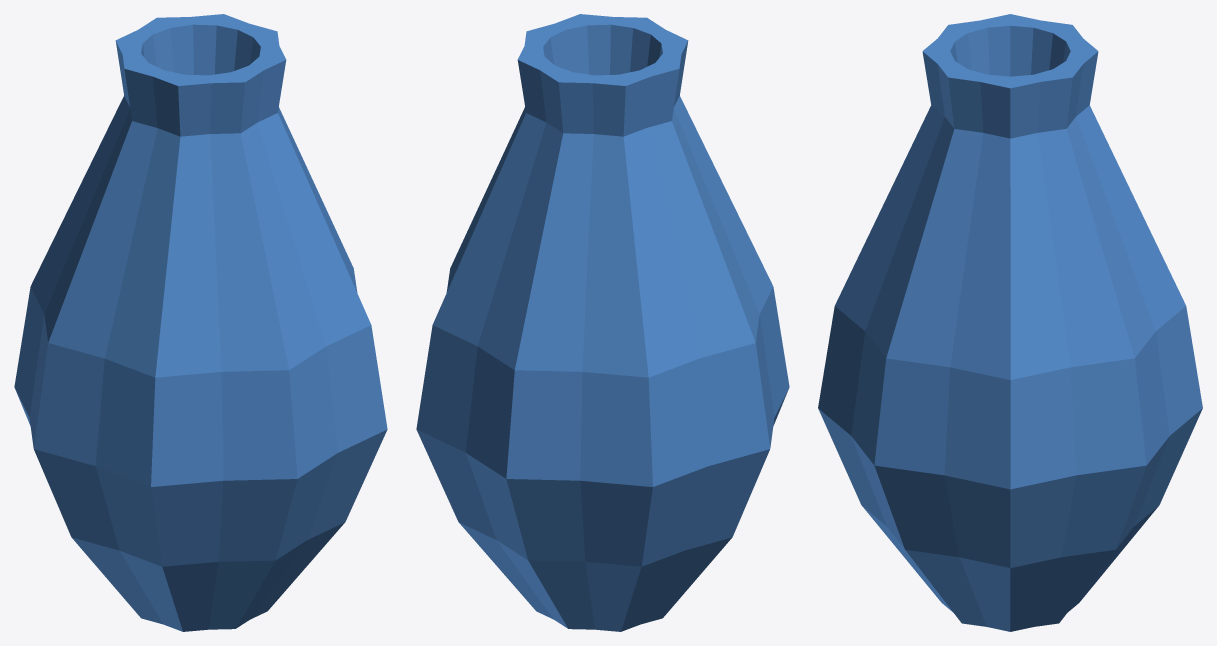
File: Vase_2.fbx
3 renders of one model, left to right at view 1: azimuth 30°, elevation 25°; view 2: azimuth 150°, elevation 25°; view 3: azimuth 270°, elevation 25°, orthographic.
Visible parts, largest first — view 1: Vase_2; view 2: Vase_2; view 3: Vase_2.
Part boxes in pixels (x1=…): Vase_2: x1=14, y1=14, x2=387, y2=631; Vase_2: x1=416, y1=14, x2=789, y2=631; Vase_2: x1=818, y1=14, x2=1202, y2=631.
Bounding box in the file's own units: 18.36 × 18.36 × 29.04.
